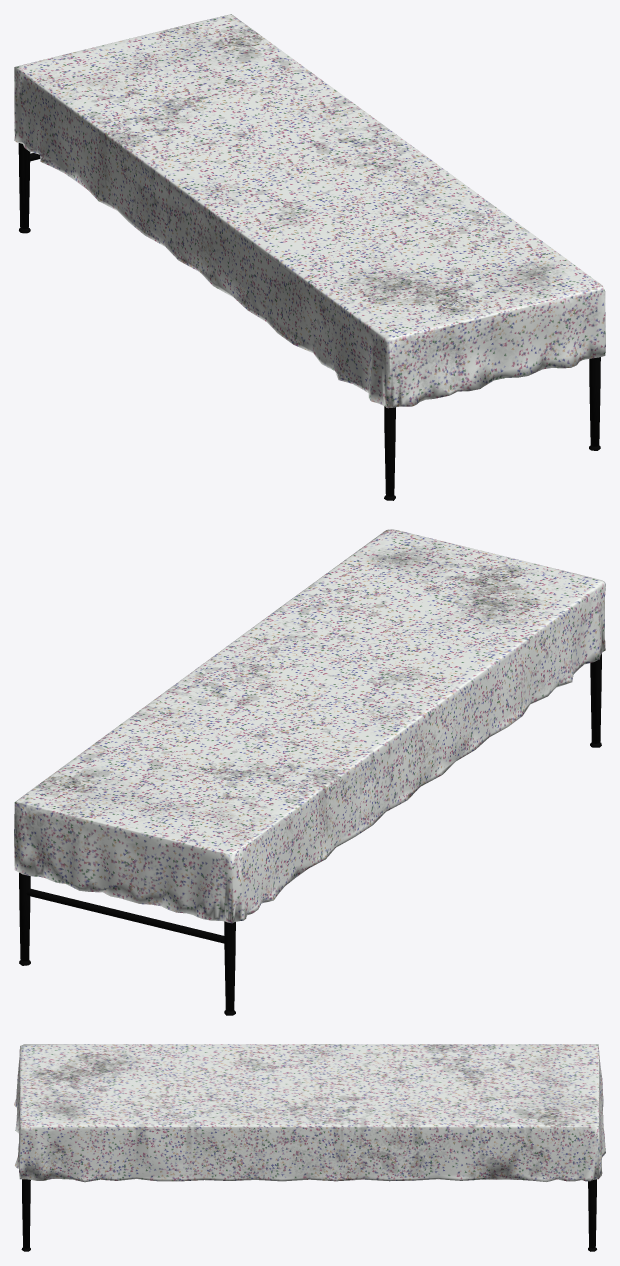
Rendered from kidstable_reference.004.fbx.
3 renders of one model, top to bottom at view 1: azimuth 30°, elevation 25°; view 2: azimuth 150°, elevation 25°; view 3: azimuth 270°, elevation 25°, orthographic. The views are drawn at different scales.
Parts seen in each view (by area): view 1: kidstable_reference.004; view 2: kidstable_reference.004; view 3: kidstable_reference.004.
Part boxes in pixels (left/top/right/bottom): kidstable_reference.004: left=14, top=14, right=605, bottom=500; kidstable_reference.004: left=14, top=529, right=605, bottom=1015; kidstable_reference.004: left=14, top=1044, right=605, bottom=1251.
Bounding box in the file's own units: 116 × 78.12 × 330.
